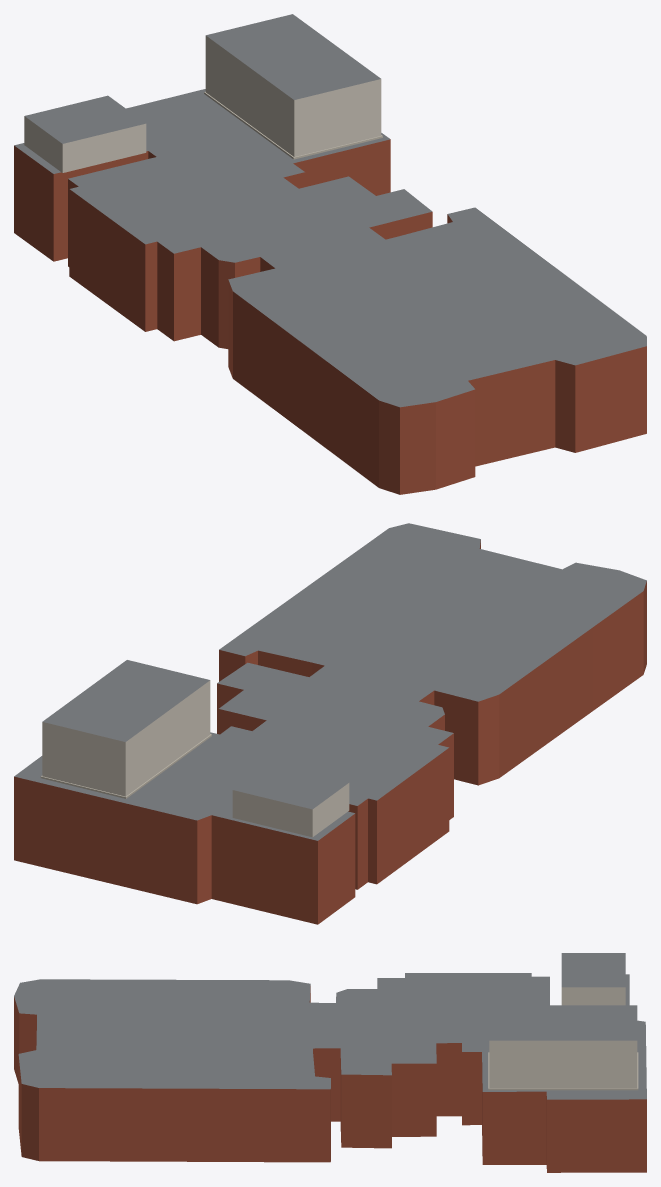
File: lds_hospital.glb
The picture shows the model from 3 angles, top to bottom: view 1: azimuth 30°, elevation 25°; view 2: azimuth 150°, elevation 25°; view 3: azimuth 270°, elevation 25°; orthographic projection. The views are drawn at different scales.
Visible parts, largest first — view 1: Lds_Hospital; view 2: Lds_Hospital; view 3: Lds_Hospital.
Part boxes in pixels (x1,y1,x2,y2): Lds_Hospital: (14,14,646,494); Lds_Hospital: (14,523,646,924); Lds_Hospital: (14,953,646,1172).
Bounding box in the file's own units: 89.2 × 40.1 × 188.
